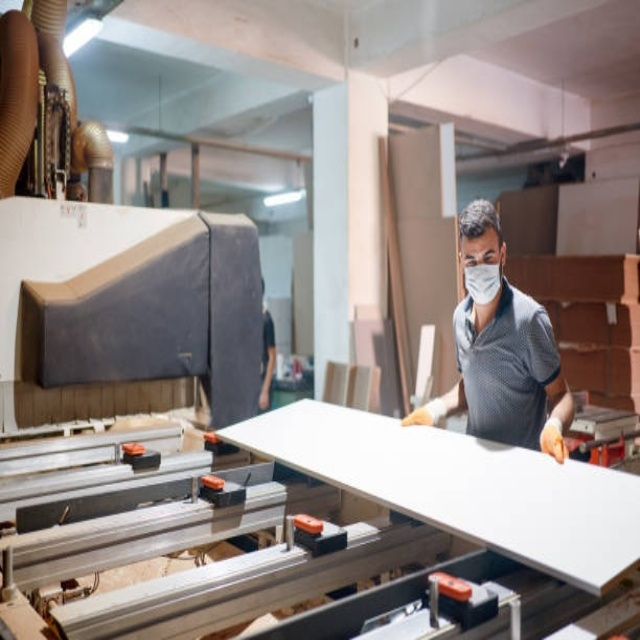Gafas: (459, 245, 500, 267)
Guantes: (540, 419, 568, 465), (401, 404, 436, 428)
Mascara: (461, 259, 503, 306)
